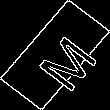M_NW: (19, 22, 91, 88)
